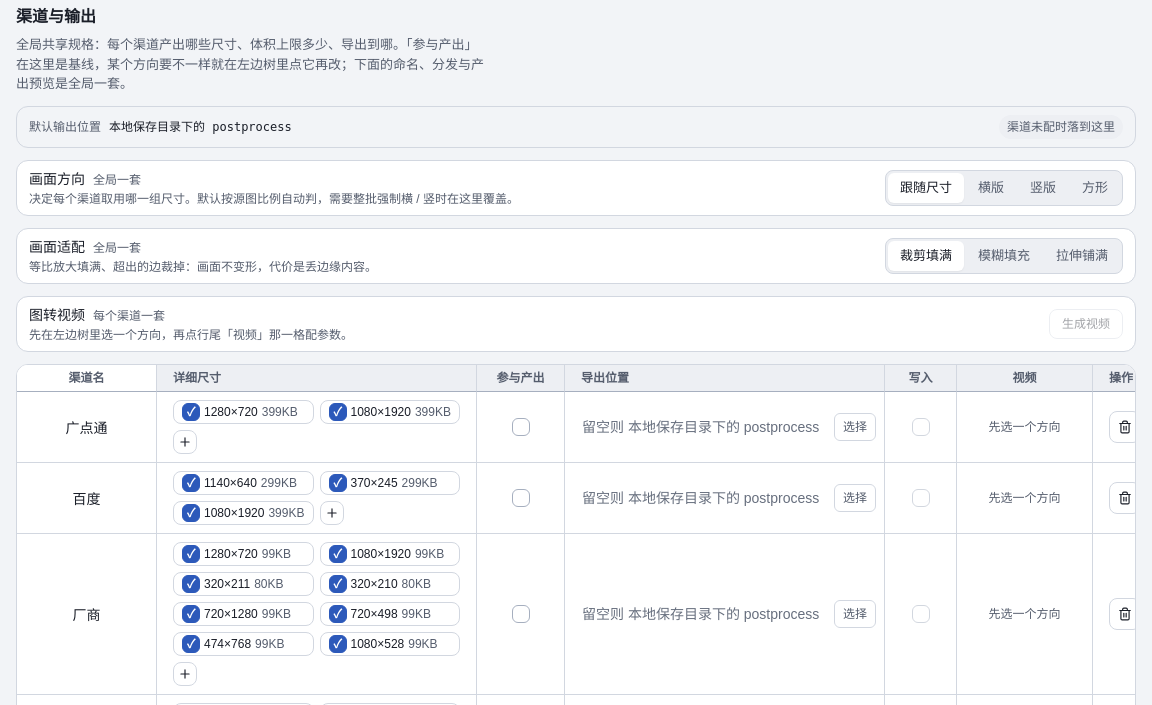
中控台 · 渠道与输出分区：表本体（尺寸 / 参与产出 / 导出位置合成一张表） › ⭐ 尺寸编辑面板的字段行：标签一条线、控件一条线、操作区跟控件同行（2026-09-22 对齐修正）
Click the button with test id "edit-size-gdt-1280x720" at (231, 412), box [204, 404, 258, 420]
(page scrolled)
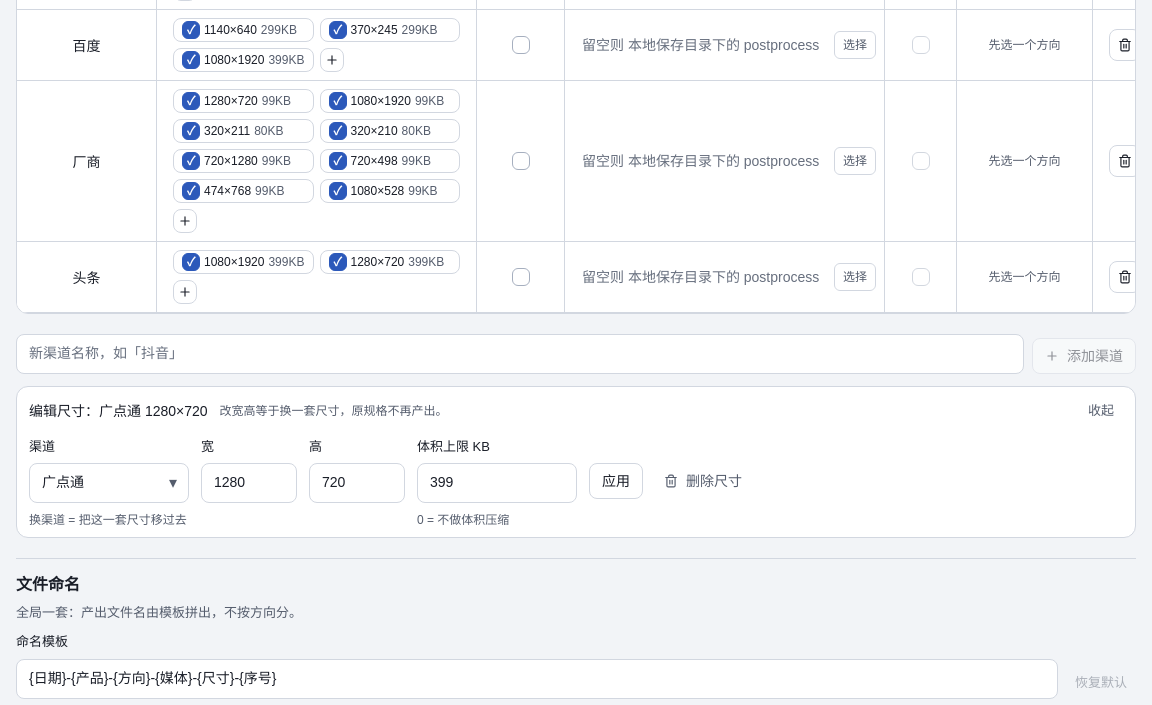
Expected: the 8th icon is shown, [1045, 348, 1059, 362]
Expected: the icon below "体积上限 KB" is shown, [664, 474, 678, 488]
